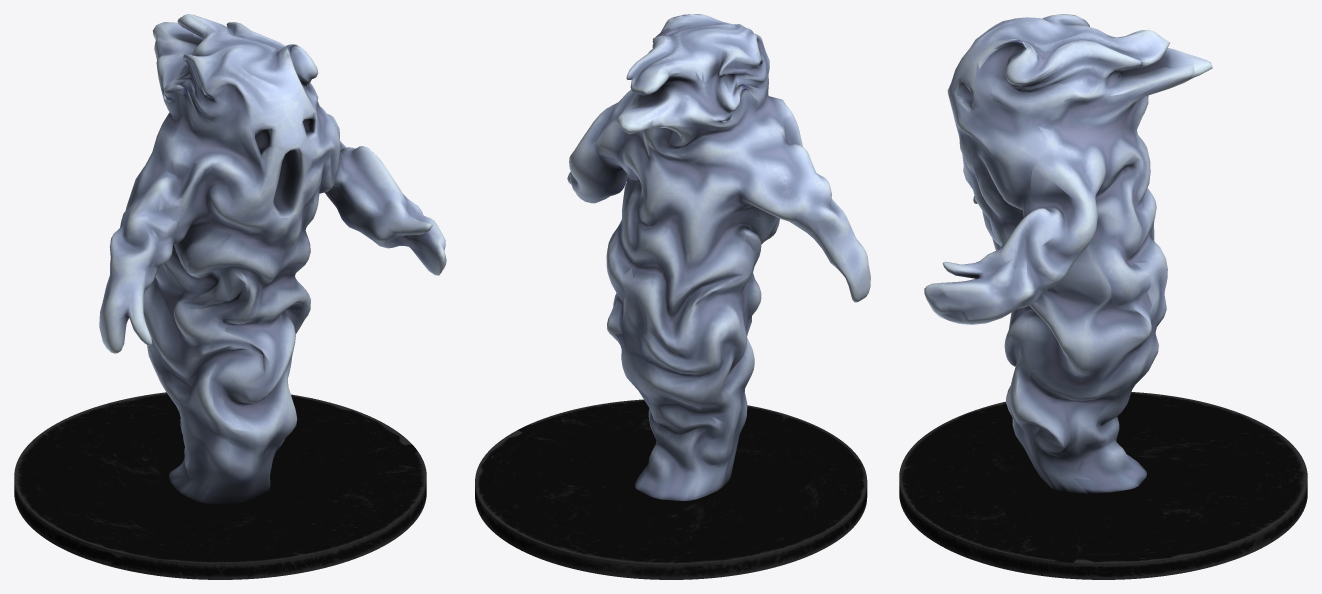
The model's file is MZ4250 - Air Elemental.glb.
3 renders of one model, left to right at view 1: azimuth 30°, elevation 25°; view 2: azimuth 150°, elevation 25°; view 3: azimuth 270°, elevation 25°, orthographic. The views are drawn at different scales.
Visible parts, largest first — view 1: Air_Elemental.001, Air_Elemental.003; view 2: Air_Elemental.001, Air_Elemental.003; view 3: Air_Elemental.001, Air_Elemental.003.
Part boxes in pixels (<box>): Air_Elemental.001: <box>99,14,446,504</box>; Air_Elemental.003: <box>14,392,426,579</box>; Air_Elemental.001: <box>567,14,870,500</box>; Air_Elemental.003: <box>475,399,867,579</box>; Air_Elemental.001: <box>924,14,1212,493</box>; Air_Elemental.003: <box>899,392,1307,579</box>.
Size of the model in its own units: 1.82 by 2.29 by 1.82.
1 material, 1 textured.
